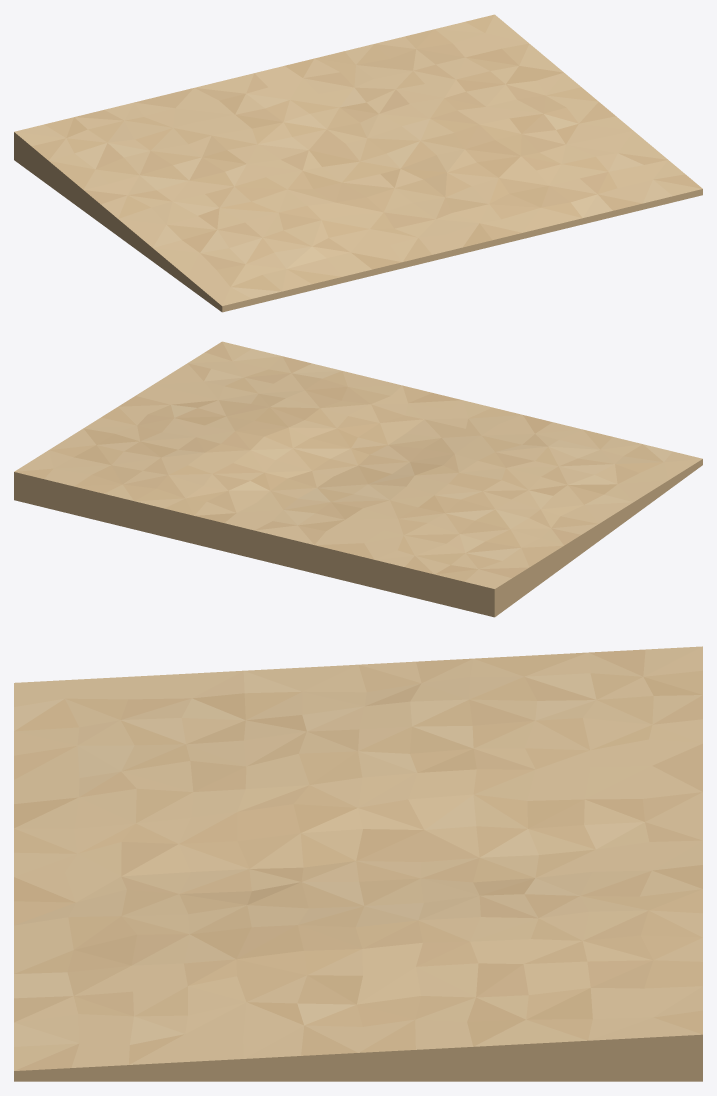
File: areia_praia_low_poly.glb
3 views of the same model, one above another, from view 1: azimuth 30°, elevation 25°; view 2: azimuth 150°, elevation 25°; view 3: azimuth 270°, elevation 25° (orthographic). The views are drawn at different scales.
Visible parts, largest first — view 1: Areia_praia_low_poly; view 2: Areia_praia_low_poly; view 3: Areia_praia_low_poly.
Part boxes in pixels (bbox=[...]): Areia_praia_low_poly: bbox=[14, 14, 702, 312]; Areia_praia_low_poly: bbox=[14, 341, 702, 617]; Areia_praia_low_poly: bbox=[14, 646, 702, 1081].
Bounding box in the file's own units: 32 × 1.8 × 24.
